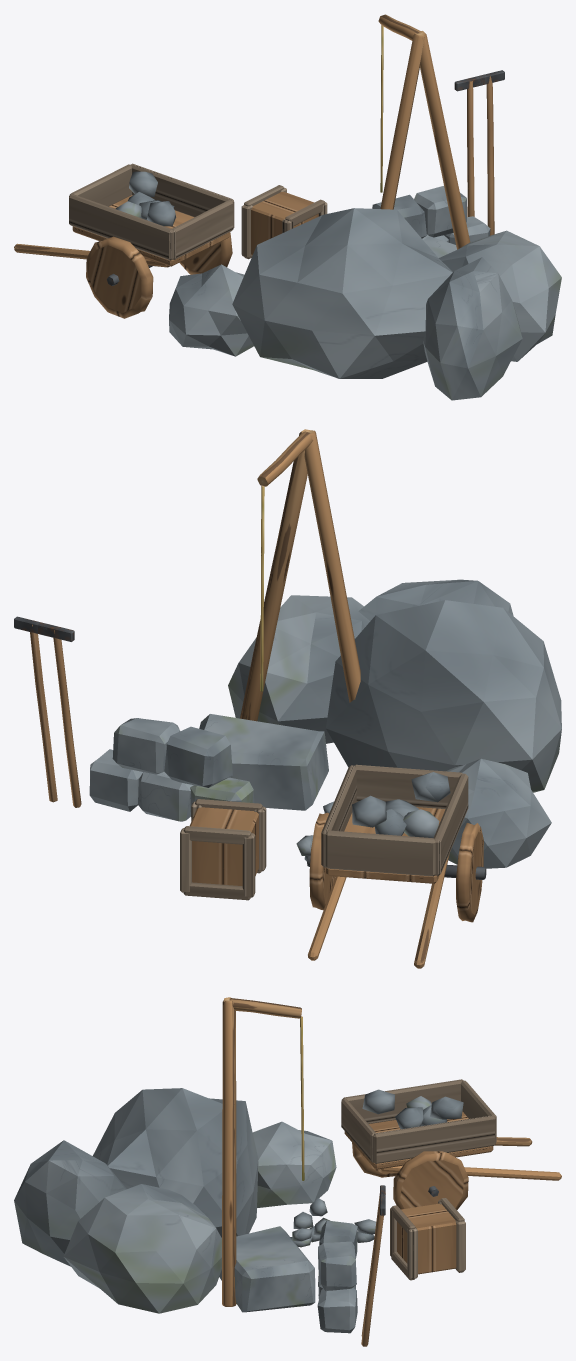
The model's file is bw_stone_site.fbx.
3 renders of one model, top to bottom at view 1: azimuth 30°, elevation 25°; view 2: azimuth 150°, elevation 25°; view 3: azimuth 270°, elevation 25°, orthographic. The views are drawn at different scales.
Parts seen in each view (by area): view 1: bw_stone_site; view 2: bw_stone_site; view 3: bw_stone_site.
Part boxes in pixels (x1=…): bw_stone_site: x1=14, y1=14, x2=561, y2=400; bw_stone_site: x1=14, y1=429, x2=561, y2=968; bw_stone_site: x1=14, y1=997, x2=561, y2=1346.
Size of the model in its own units: 2.56 by 1.72 by 3.03.
